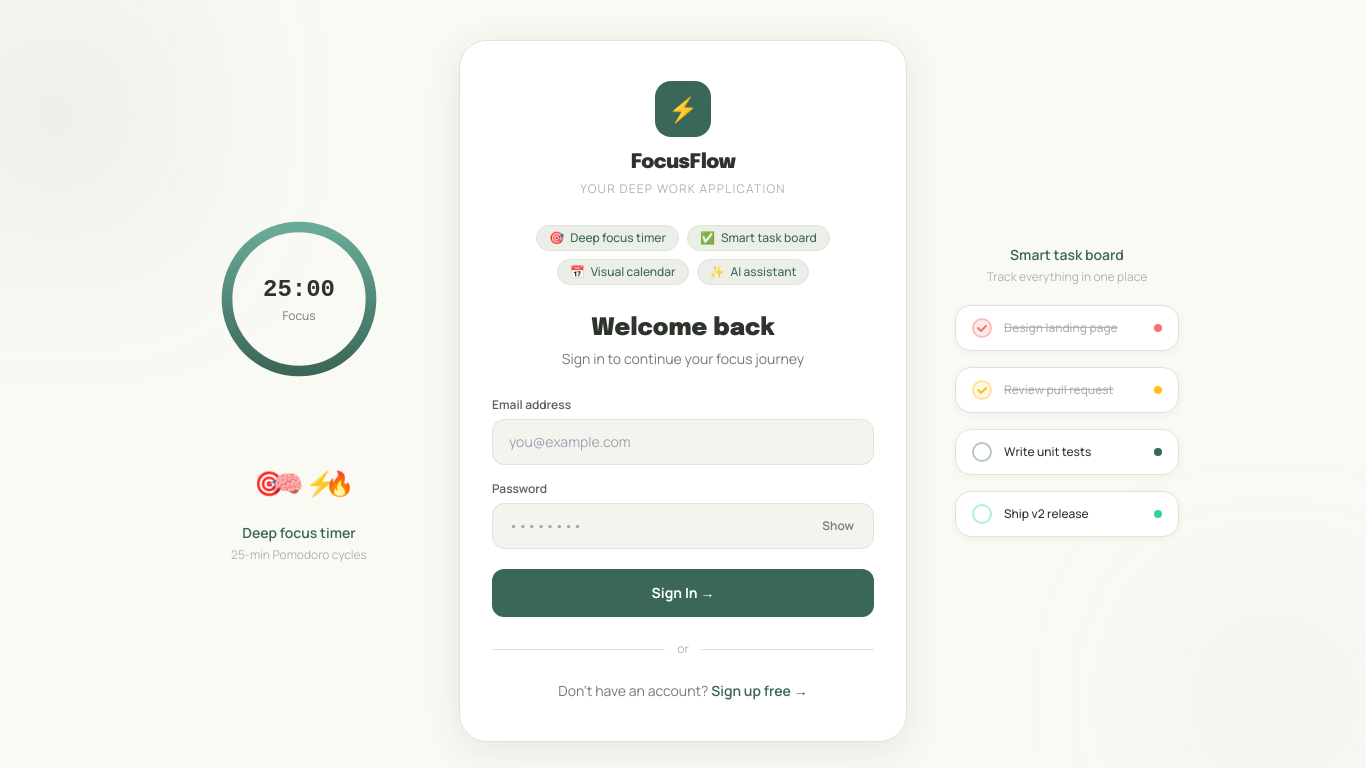
Test case: LoginPage › AUTH-06: button shows loading state and is disabled during submission
Type "alice@test.com" into the field labelled "Email address". click: point(683, 442)
box: [492,419,874,465]
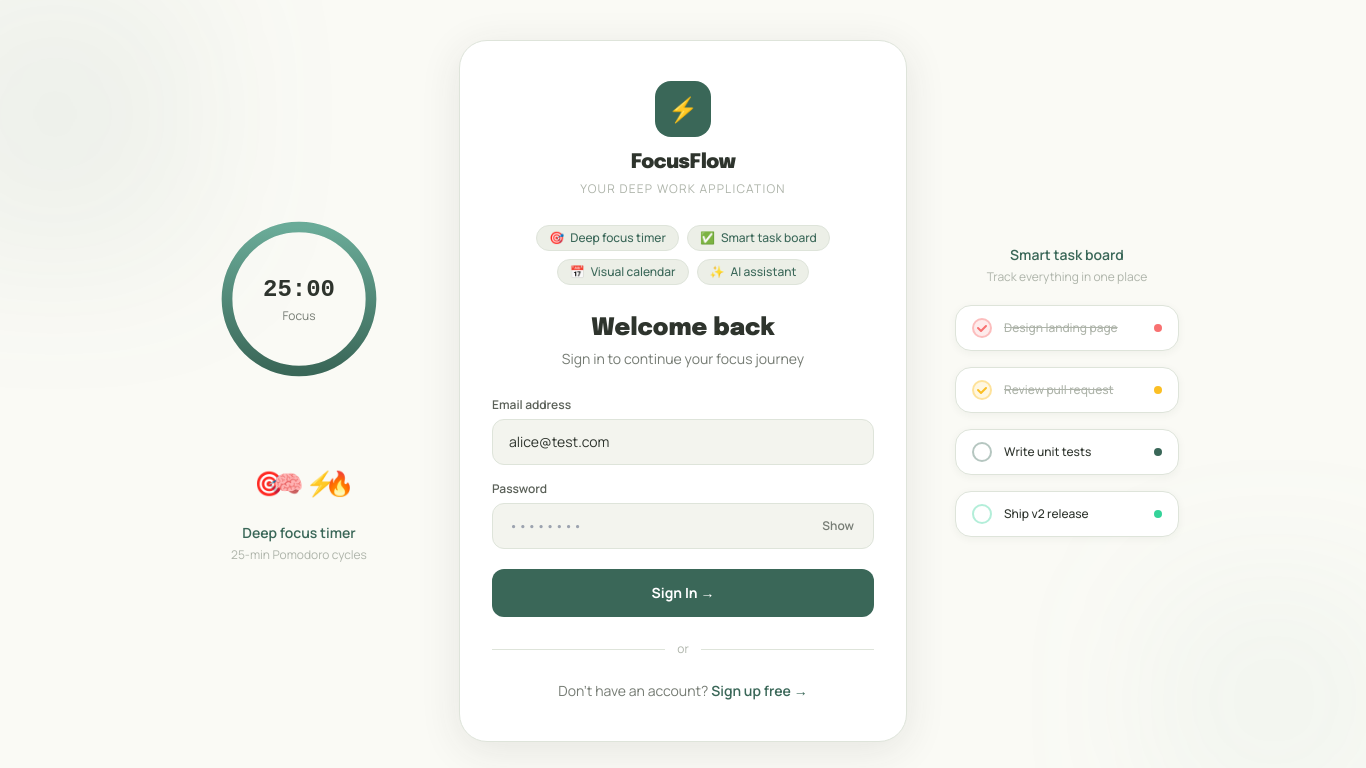
Type "password123" into the password field labelled "Password". click: point(683, 526)
box: [492,503,874,549]
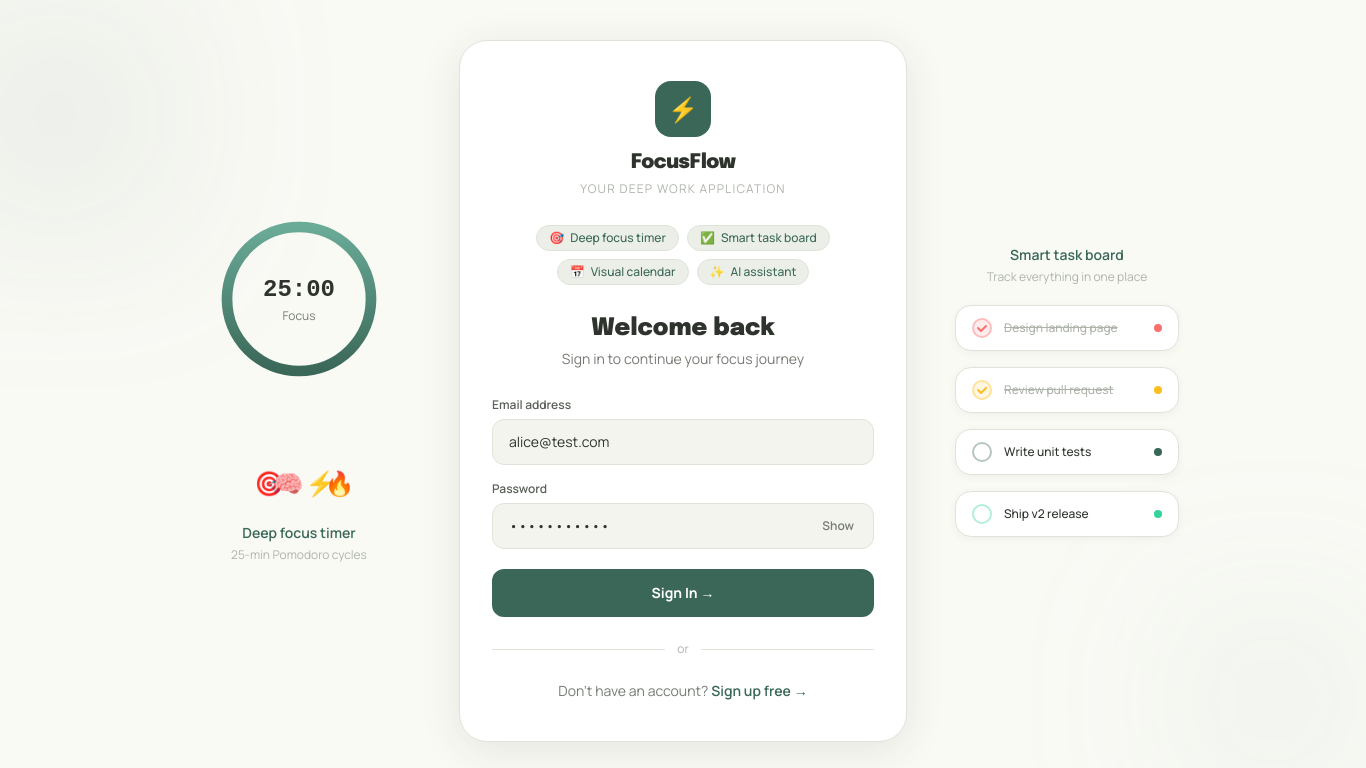
Click the button "Sign In →". click: point(683, 593)
box: [492,569,874,617]
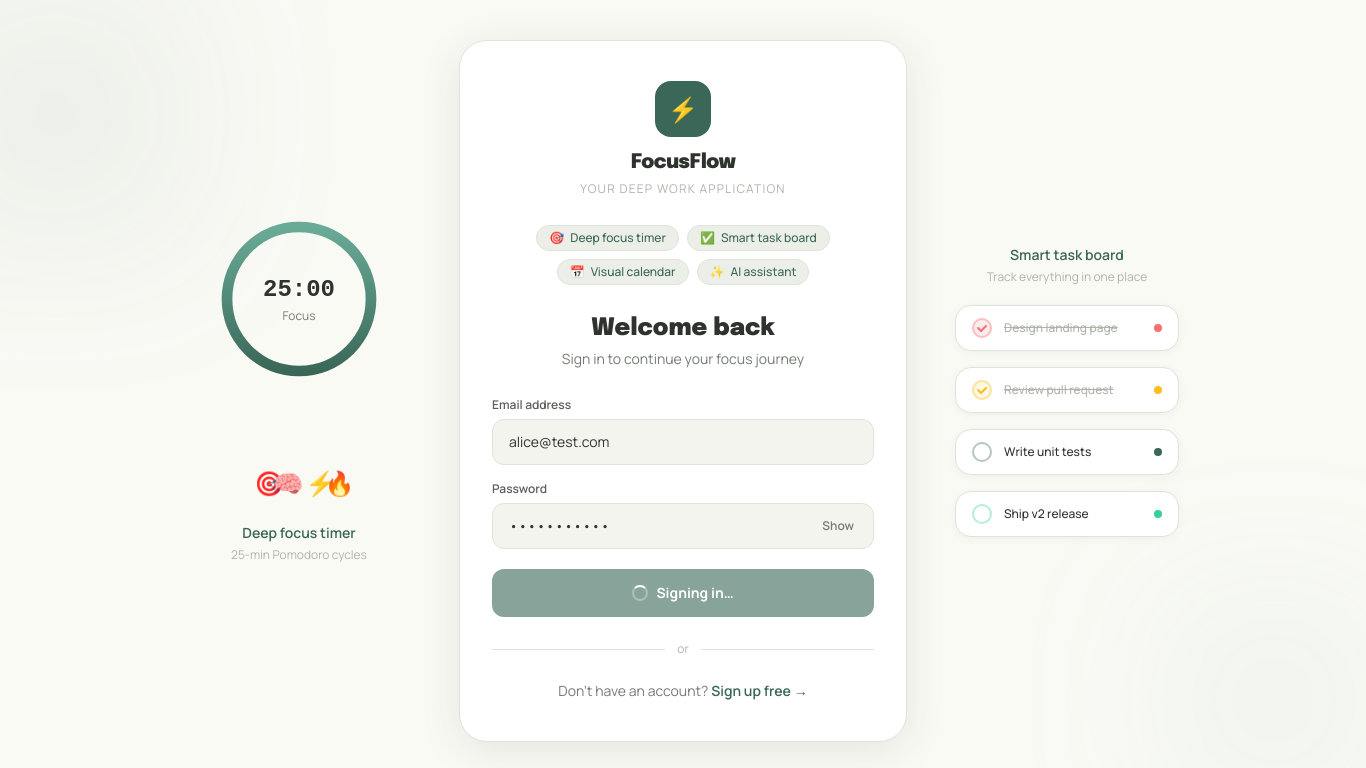
Expected: the button "Signing in…" is disabled, [492,569,874,617]
